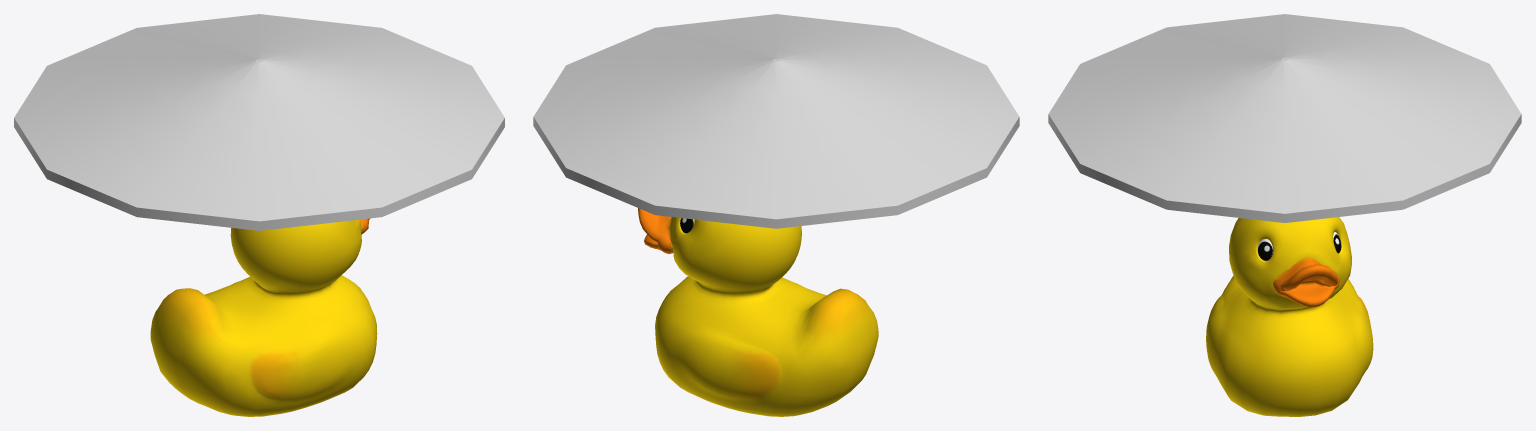
The model's file is duck.FBX.
The picture shows the model from 3 angles, left to right: view 1: azimuth 30°, elevation 25°; view 2: azimuth 150°, elevation 25°; view 3: azimuth 270°, elevation 25°; orthographic projection. The views are drawn at different scales.
Visible parts, largest first — view 1: Spindle001, duck; view 2: Spindle001, duck; view 3: Spindle001, duck.
Boxes of the visible parts, x1,y1,x2,y2 form: Spindle001: (14,14,504,230); duck: (150,218,377,416); Spindle001: (533,14,1019,228); duck: (638,208,878,416); Spindle001: (1048,14,1521,222); duck: (1206,217,1373,416).
Bounding box in the file's own units: 1.28 × 1.28 × 0.9612.
